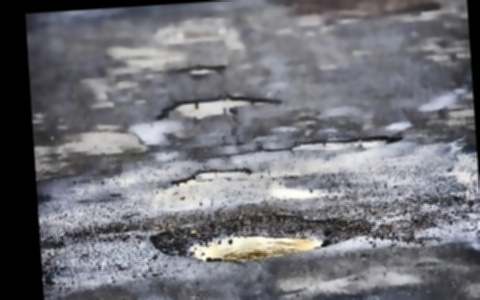pothole: (147, 204, 370, 267), (154, 92, 282, 122), (289, 132, 401, 151), (169, 167, 252, 186), (174, 62, 226, 76)
